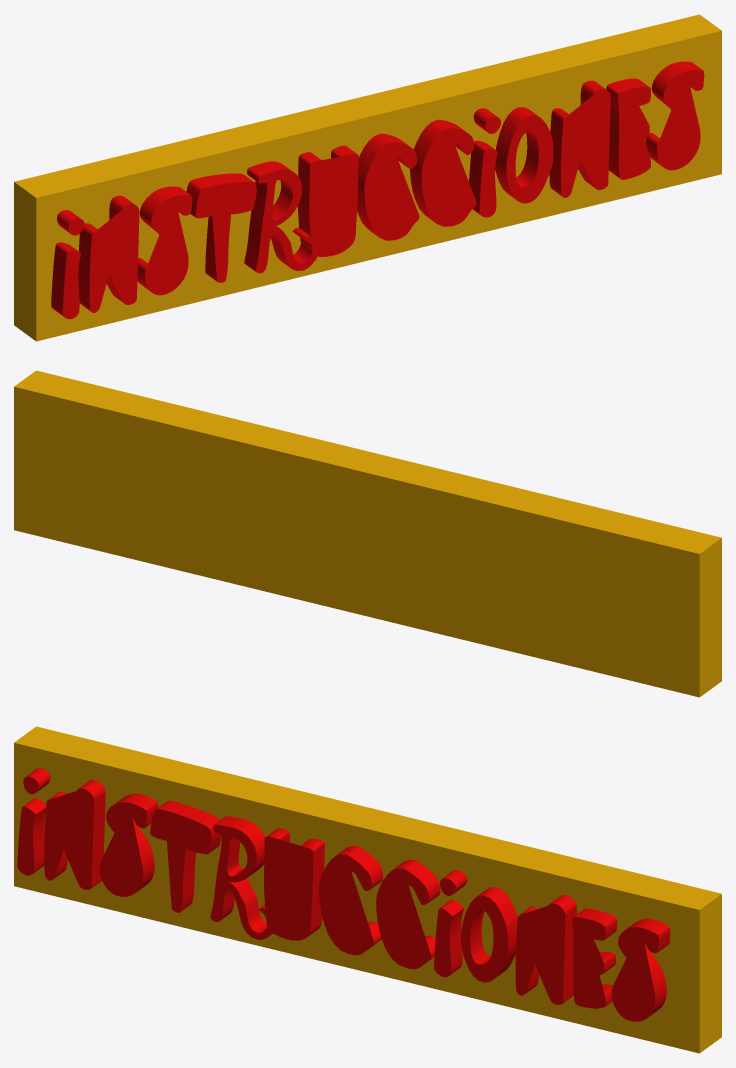
File: INSTRUCCIONES.fbx
3 renders of one model, top to bottom at view 1: azimuth 30°, elevation 25°; view 2: azimuth 150°, elevation 25°; view 3: azimuth 330°, elevation 25°, orthographic.
Visible parts, largest first — view 1: pCube1, typeMesh1; view 2: pCube1; view 3: pCube1, typeMesh1.
Boxes of the visible parts, <box> form: pCube1: <box>14,14,721,341</box>; typeMesh1: <box>51,61,704,319</box>; pCube1: <box>14,370,721,697</box>; pCube1: <box>14,726,721,1053</box>; typeMesh1: <box>17,768,670,1021</box>.
Size of the model in its own units: 37.99 by 7.59 by 3.24.
